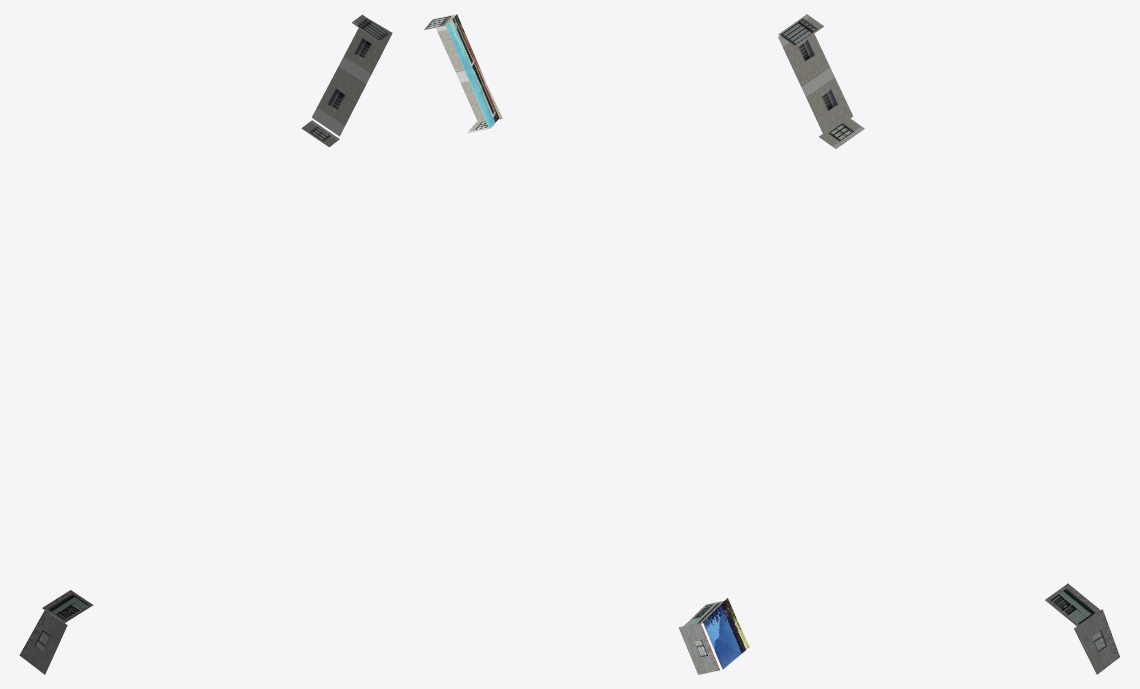
File: tile_LOD4_r0_c11.glb
The picture shows the model from 3 angles, left to right: view 1: azimuth 30°, elevation 25°; view 2: azimuth 210°, elevation 25°; view 3: azimuth 270°, elevation 25°; orthographic projection. The views are drawn at different scales.
Bounding box in the file's own units: 25 × 69.75 × 30.
Materials: 8 (8 with a texture image).
